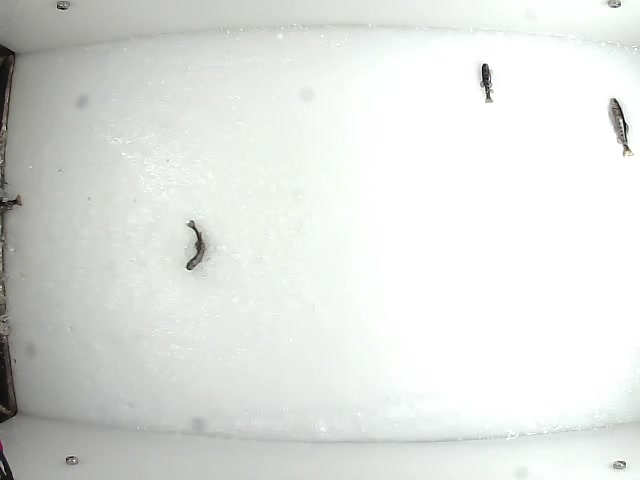fish: (606, 95, 632, 161), (184, 218, 208, 273), (478, 61, 494, 104)
